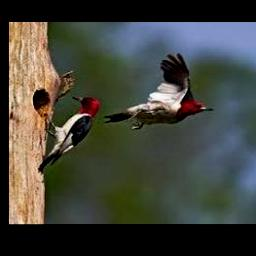Woodpecker: (103, 53, 214, 130), (38, 96, 101, 173)
